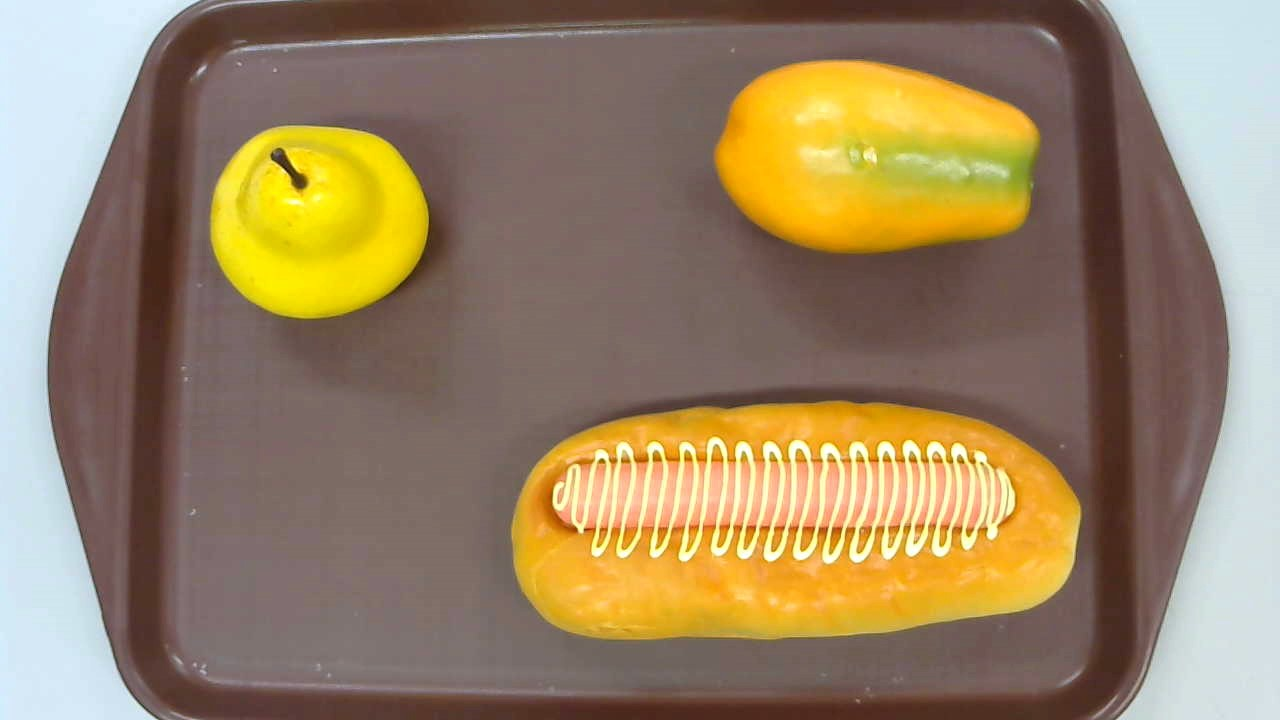hot dog: (509, 398, 1082, 642)
papya: (710, 60, 1041, 256)
yellow pear: (209, 124, 429, 321)
